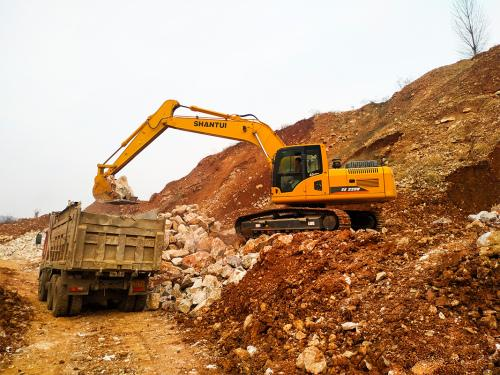excavator: (96, 103, 394, 217)
